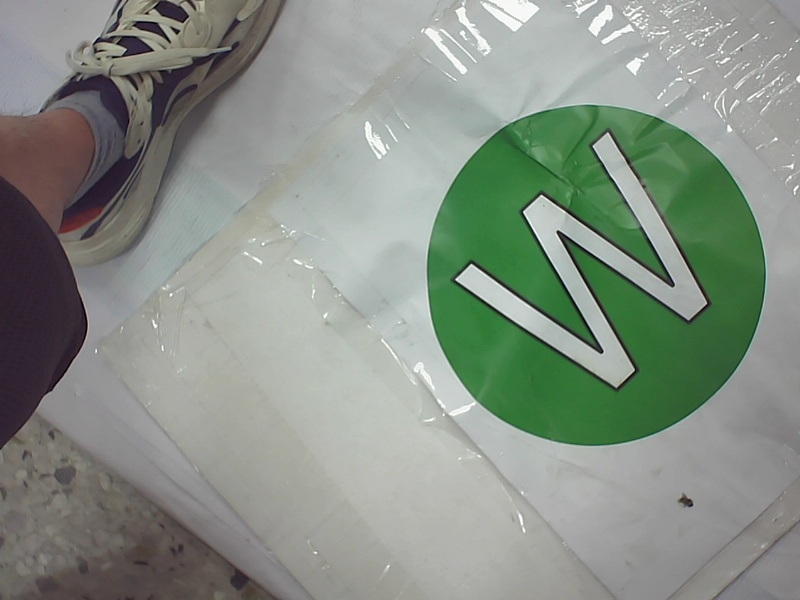areaB: (410, 96, 771, 453)
